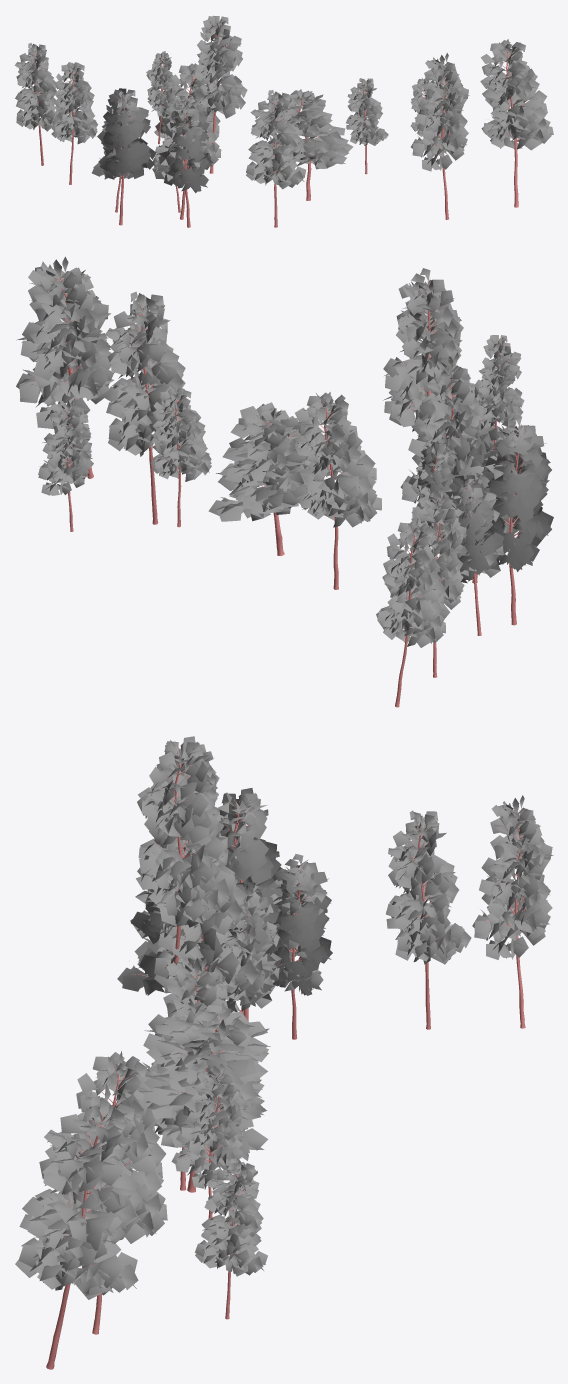
Rendered from Woods_Dawn_Trees_01.gltf.
3 views of the same model, one above another, from view 1: azimuth 30°, elevation 25°; view 2: azimuth 150°, elevation 25°; view 3: azimuth 270°, elevation 25° (orthographic). The views are drawn at different scales.
Visible parts, largest first — view 1: Woods_Dawn_Trees_01; view 2: Woods_Dawn_Trees_01; view 3: Woods_Dawn_Trees_01.
Boxes of the visible parts, x1,y1,x2,y2 form: Woods_Dawn_Trees_01: (14,15,553,227); Woods_Dawn_Trees_01: (16,256,553,707); Woods_Dawn_Trees_01: (15,736,553,1369).
Bounding box in the file's own units: 253 × 140 × 164.
